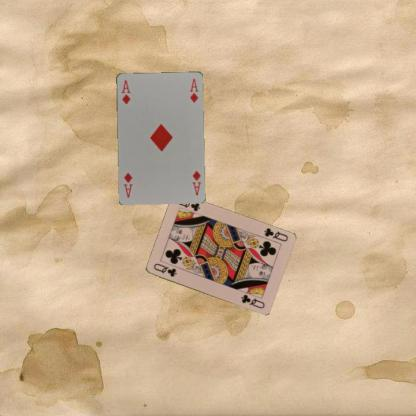Ad: (118, 77, 132, 105), (190, 168, 202, 197)
Qc: (261, 225, 289, 243), (151, 260, 177, 278)
